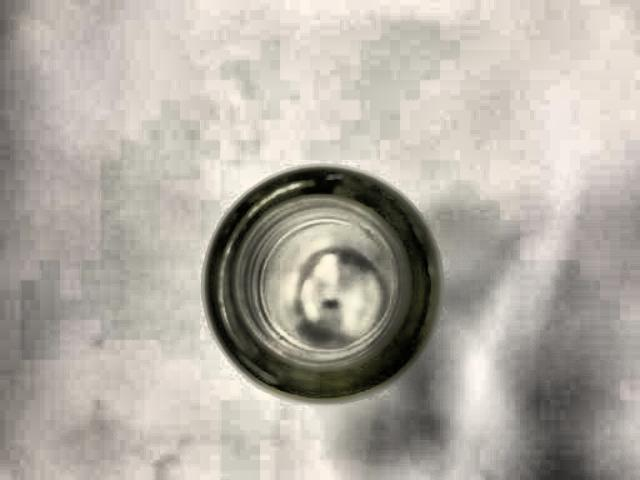Bottles: (179, 127, 444, 415)
